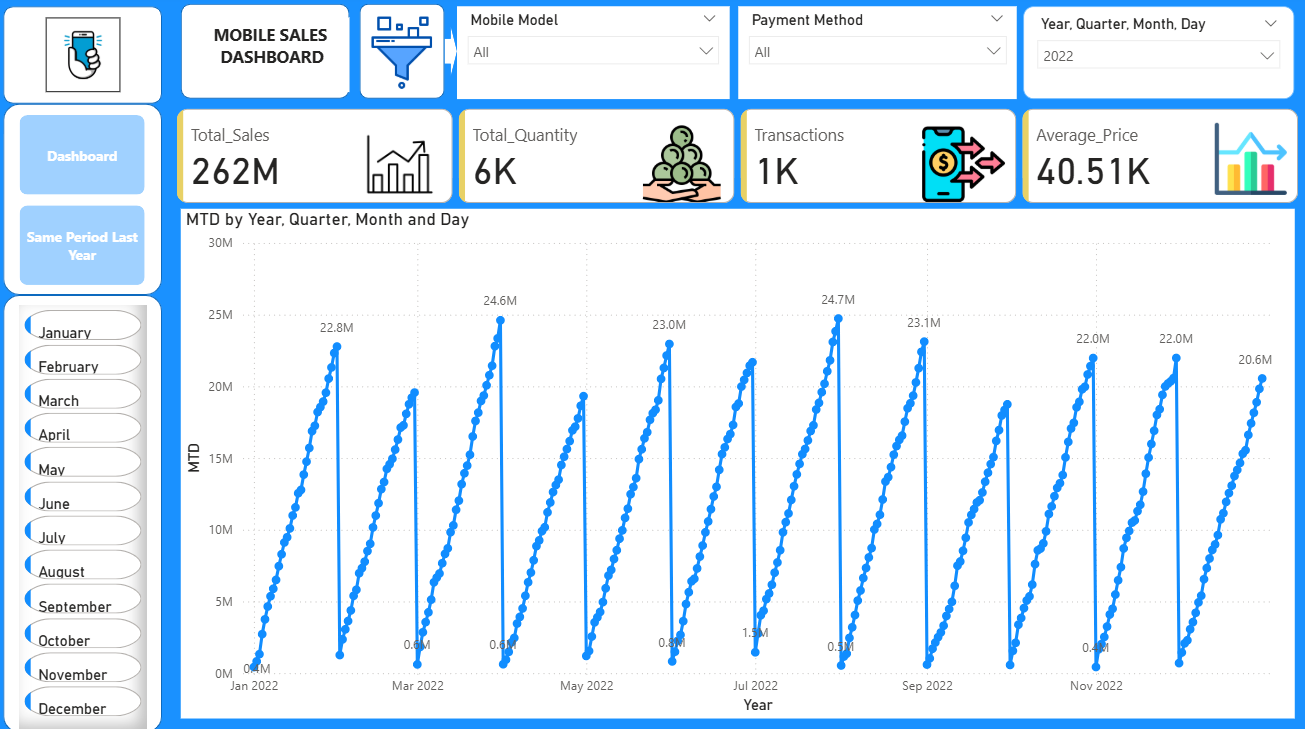

Layout of this report page (visuals, bound fields, positions):
{"tool":"powerbi","page":{"name":"MTD Report","canvas":[1280,720],"ordinal":1},"visuals":[{"type":"shape","box":[15.7,10.9,153.2,94.1],"z":0},{"type":"image","box":[56.7,21.7,72.4,72.4],"z":1000},{"type":"shape","box":[15.7,105,153.2,184.6],"z":2000},{"type":"cardVisual","fields":{"Data":["Sales_Data.Total_Sales","Sales_Data.Total_Quantity","Sales_Data.Transactions","Sales_Data.Average_Price"]},"box":[178.6,105,1093,101.3],"z":3000},{"type":"slicer","fields":{"Values":["Sales_Data.Mobile Model"]},"box":[453.6,10.9,263,89.3],"z":4000},{"type":"slicer","fields":{"Values":["Sales_Data.Payment Method"]},"box":[725.1,10.9,269,89.3],"z":5000},{"type":"slicer","fields":{"Values":["Custom_Calendar.Date.Variation.Date Hierarchy.Year","Custom_Calendar.Date.Variation.Date Hierarchy.Quarter","Custom_Calendar.Date.Variation.Date Hierarchy.Month","Custom_Calendar.Date.Variation.Date Hierarchy.Day"]},"box":[1000.1,10.9,261.8,89.3],"z":6000},{"type":"shape","box":[359.5,8.4,82,91.7],"z":7000},{"type":"image","box":[359.5,10.9,82,89.3],"z":8000},{"type":"shape","box":[441.6,30.2,12.1,48.3],"z":9000},{"type":"shape","box":[187,8.4,162.9,91.7],"z":10000},{"type":"textbox","box":[200.3,21.7,149.6,72.4],"z":11000},{"type":"lineChart","fields":{"Y":["Sales_Data.MTD"],"Category":["Custom_Calendar.Date.Variation.Date Hierarchy.Year","Custom_Calendar.Date.Variation.Date Hierarchy.Quarter","Custom_Calendar.Date.Variation.Date Hierarchy.Month","Custom_Calendar.Date.Variation.Date Hierarchy.Day"]},"box":[187,206.3,1074.9,492.2],"z":12000},{"type":"shape","box":[15.7,289.5,153.2,422.3],"z":13000},{"type":"advancedSlicerVisual","fields":{"Values":["Custom_Calendar.Date.Variation.Date Hierarchy.Month"]},"box":[31.4,299.2,123.1,412.6],"z":14000},{"type":"pageNavigator","box":[31.4,115.8,121.9,164.1],"z":14001}]}

Visuals, with their boxes in screenshot pixels (x1, y1, x2, y2), scaled from the page's 1280x720 canvas onto the 1305x729 screenshot:
shape: {"left": 16, "top": 11, "right": 172, "bottom": 106}
image: {"left": 58, "top": 22, "right": 132, "bottom": 95}
shape: {"left": 16, "top": 106, "right": 172, "bottom": 293}
cardVisual - Sales_Data.Total_Sales x Sales_Data.Total_Quantity: {"left": 182, "top": 106, "right": 1296, "bottom": 209}
slicer - Sales_Data.Mobile Model: {"left": 462, "top": 11, "right": 731, "bottom": 101}
slicer - Sales_Data.Payment Method: {"left": 739, "top": 11, "right": 1014, "bottom": 101}
slicer - Custom_Calendar.Date.Variation.Date Hierarchy.Year x Custom_Calendar.Date.Variation.Date Hierarchy.Quarter: {"left": 1020, "top": 11, "right": 1287, "bottom": 101}
shape: {"left": 367, "top": 9, "right": 450, "bottom": 101}
image: {"left": 367, "top": 11, "right": 450, "bottom": 101}
shape: {"left": 450, "top": 31, "right": 463, "bottom": 79}
shape: {"left": 191, "top": 9, "right": 357, "bottom": 101}
textbox: {"left": 204, "top": 22, "right": 357, "bottom": 95}
lineChart - Sales_Data.MTD x Custom_Calendar.Date.Variation.Date Hierarchy.Year: {"left": 191, "top": 209, "right": 1287, "bottom": 707}
shape: {"left": 16, "top": 293, "right": 172, "bottom": 721}
advancedSlicerVisual - Custom_Calendar.Date.Variation.Date Hierarchy.Month: {"left": 32, "top": 303, "right": 158, "bottom": 721}
pageNavigator: {"left": 32, "top": 117, "right": 156, "bottom": 283}
